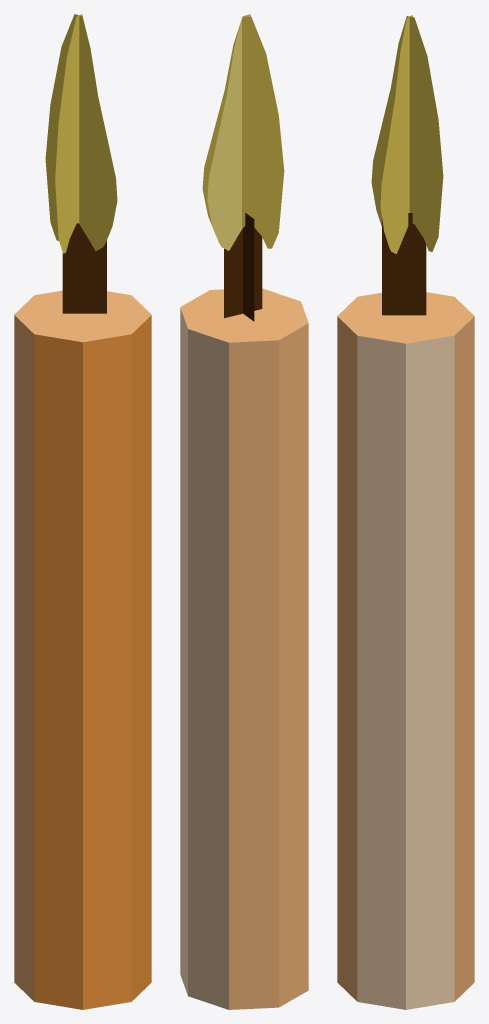
Rendered from candle_338x01.gltf.
The picture shows the model from 3 angles, left to right: view 1: azimuth 90°, elevation 25°; view 2: azimuth 210°, elevation 25°; view 3: azimuth 270°, elevation 25°; orthographic projection.
Parts seen in each view (by area): view 1: candle_338x01; view 2: candle_338x01; view 3: candle_338x01.
Part boxes in pixels (left/top/right/bottom): candle_338x01: left=14, top=14, right=151, bottom=1009; candle_338x01: left=180, top=14, right=308, bottom=1009; candle_338x01: left=337, top=15, right=474, bottom=1009.
Size of the model in its own units: 0.1409 by 1.15 by 0.1487.
1 material, 1 textured.
